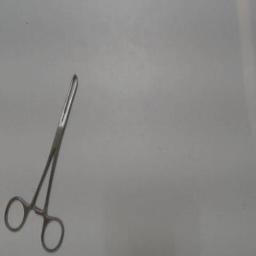Allis Tissue Forceps: (2, 67, 82, 255)
